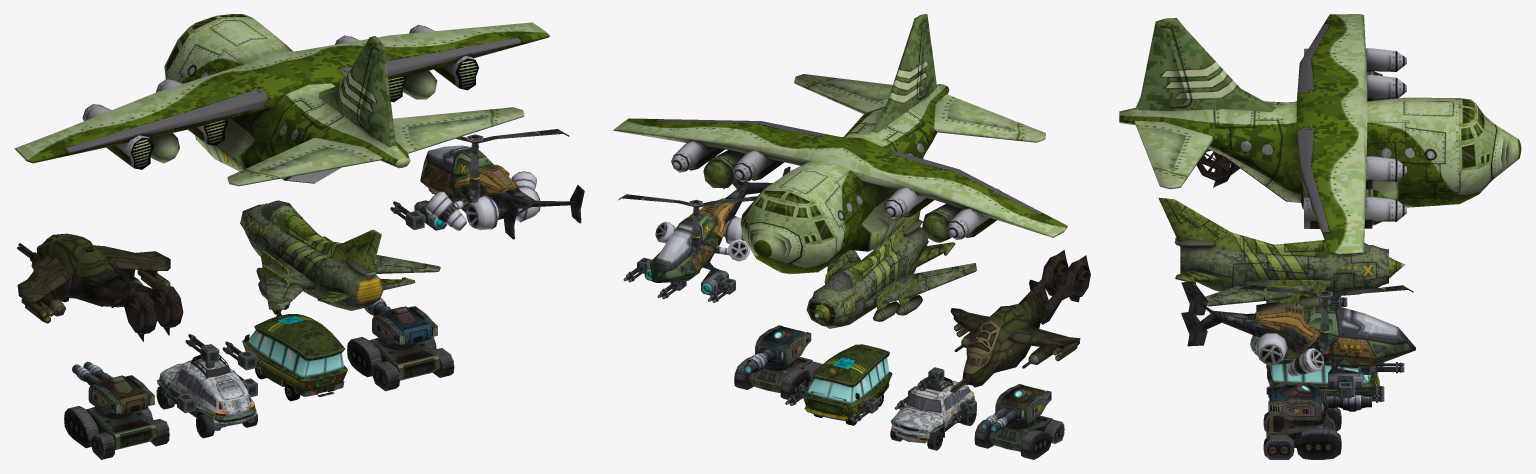
The model's file is Cartoon Vehicles Seal Team X.FBX.
3 renders of one model, left to right at view 1: azimuth 30°, elevation 25°; view 2: azimuth 150°, elevation 25°; view 3: azimuth 270°, elevation 25°, orthographic. The views are drawn at different scales.
Visible parts, largest first — view 1: Catoon_AC130_seal team X, catoon_SU22_seal team X, cartoon_heli HVL_seal team X, cartoon_heli APC_seal team X, cartoon_ambucar_seal team X, cartoon_car HM_seal team X, cartoon_tank 2_seal teal X, cartoon_tank_seal teal X, cartoon_tank 2_seal teal X_turret, cartoon_tank_seal teal X_turret, cartoon_heli APC_seal team X_rotor; view 2: Catoon_AC130_seal team X, catoon_SU22_seal team X, cartoon_heli HVL_seal team X, cartoon_heli APC_seal team X, cartoon_ambucar_seal team X, cartoon_car HM_seal team X, cartoon_tank_seal teal X, cartoon_tank 2_seal teal X, cartoon_tank 2_seal teal X_turret, cartoon_tank_seal teal X_turret, cartoon_heli APC_seal team X_rotor, cartoon_tank_seal teal X_turret001; view 3: Catoon_AC130_seal team X, catoon_SU22_seal team X, cartoon_heli APC_seal team X, cartoon_tank 2_seal teal X, cartoon_tank 2_seal teal X_turret, cartoon_ambucar_seal team X, cartoon_heli APC_seal team X_rotor, cartoon_tank 2_seal teal X_turret001, cartoon_heli HVL_seal team X.
Boxes of the visible parts, x1,y1,x2,y2 form: Catoon_AC130_seal team X: [14, 14, 549, 186]; catoon_SU22_seal team X: [240, 200, 440, 310]; cartoon_heli HVL_seal team X: [17, 233, 183, 341]; cartoon_heli APC_seal team X: [414, 145, 584, 239]; cartoon_ambucar_seal team X: [242, 310, 347, 396]; cartoon_car HM_seal team X: [156, 355, 256, 430]; cartoon_tank 2_seal teal X: [347, 336, 454, 391]; cartoon_tank_seal teal X: [64, 406, 169, 459]; cartoon_tank 2_seal teal X_turret: [372, 306, 437, 349]; cartoon_tank_seal teal X_turret: [88, 375, 154, 418]; cartoon_heli APC_seal team X_rotor: [456, 129, 569, 202]; Catoon_AC130_seal team X: [613, 14, 1067, 274]; catoon_SU22_seal team X: [806, 210, 976, 328]; cartoon_heli HVL_seal team X: [950, 250, 1090, 392]; cartoon_heli APC_seal team X: [644, 166, 790, 295]; cartoon_ambucar_seal team X: [802, 344, 892, 420]; cartoon_car HM_seal team X: [891, 377, 975, 443]; cartoon_tank_seal teal X: [974, 415, 1064, 459]; cartoon_tank 2_seal teal X: [734, 357, 822, 399]; cartoon_tank 2_seal teal X_turret: [755, 325, 811, 370]; cartoon_tank_seal teal X_turret: [995, 384, 1051, 429]; cartoon_heli APC_seal team X_rotor: [618, 194, 757, 257]; cartoon_tank_seal teal X_turret001: [980, 407, 1017, 432]; Catoon_AC130_seal team X: [1119, 14, 1521, 255]; catoon_SU22_seal team X: [1158, 197, 1405, 312]; cartoon_heli APC_seal team X: [1181, 281, 1415, 390]; cartoon_tank 2_seal teal X: [1263, 407, 1341, 459]; cartoon_tank 2_seal teal X_turret: [1268, 383, 1328, 425]; cartoon_ambucar_seal team X: [1266, 349, 1379, 396]; cartoon_heli APC_seal team X_rotor: [1237, 284, 1413, 354]; cartoon_tank 2_seal teal X_turret001: [1326, 395, 1371, 410]; cartoon_heli HVL_seal team X: [1196, 149, 1240, 187].
Bounding box in the file's own units: 868 × 624 × 588.
8 materials, 8 textured.
